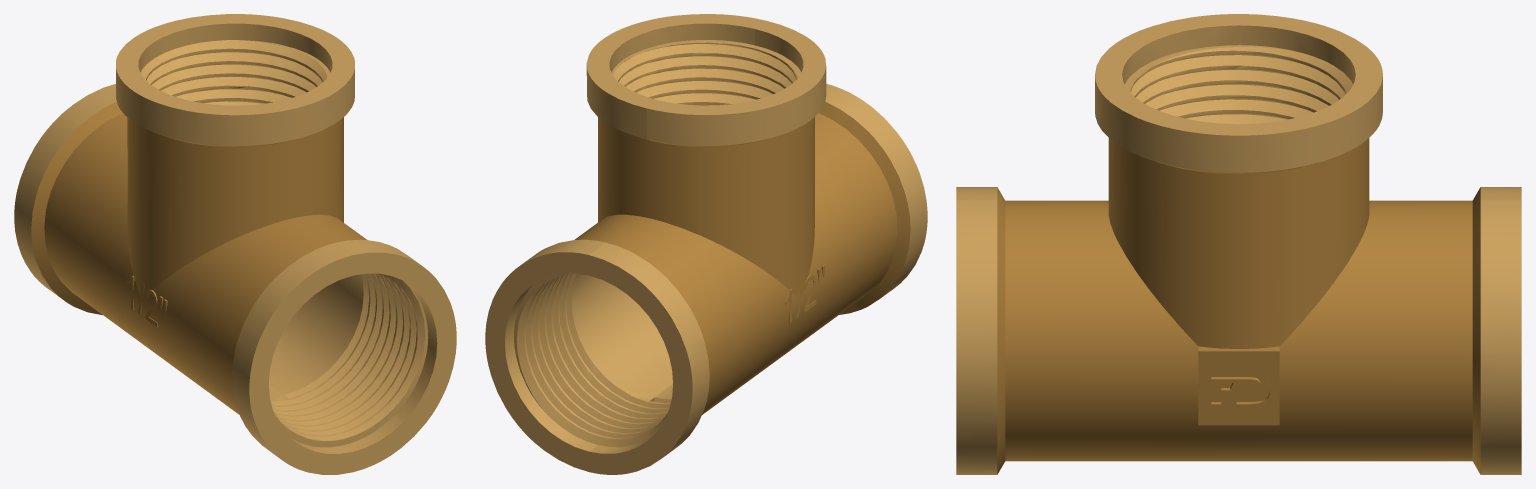
The model's file is trojnik.gltf.
3 renders of one model, left to right at view 1: azimuth 30°, elevation 25°; view 2: azimuth 150°, elevation 25°; view 3: azimuth 270°, elevation 25°, orthographic. The views are drawn at different scales.
Visible parts, largest first — view 1: Áîáûøêà-Âûòÿíóòü2; view 2: Áîáûøêà-Âûòÿíóòü2; view 3: Áîáûøêà-Âûòÿíóòü2.
Part boxes in pixels (x1=…): Áîáûøêà-Âûòÿíóòü2: x1=14, y1=14, x2=456, y2=474; Áîáûøêà-Âûòÿíóòü2: x1=485, y1=14, x2=927, y2=474; Áîáûøêà-Âûòÿíóòü2: x1=956, y1=14, x2=1521, y2=474.
Size of the model in its own units: 6.73 by 9.97 by 13.21.
